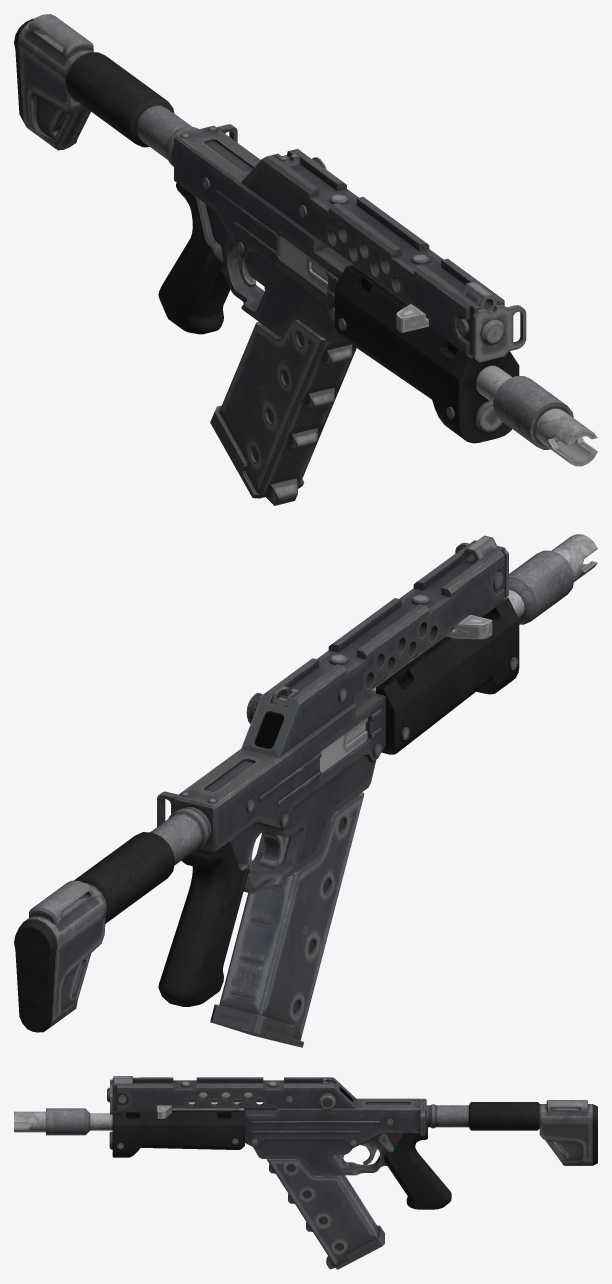
Rendered from ASrifle.fbx.
3 views of the same model, one above another, from view 1: azimuth 30°, elevation 25°; view 2: azimuth 150°, elevation 25°; view 3: azimuth 270°, elevation 25° (orthographic). The views are drawn at different scales.
Visible parts, largest first — view 1: base, mag, bolt; view 2: base, mag, bolt, magrelease, visor; view 3: base, mag, bolt.
Part boxes in pixels (bbox=[...]): base: bbox=[14, 14, 597, 466]; mag: bbox=[210, 319, 356, 505]; bolt: bbox=[280, 236, 428, 332]; base: bbox=[14, 534, 597, 1032]; mag: bbox=[210, 792, 364, 1047]; bolt: bbox=[320, 615, 492, 772]; magrelease: bbox=[259, 831, 289, 869]; visor: bbox=[255, 712, 283, 748]; base: bbox=[14, 1076, 597, 1209]; mag: bbox=[266, 1159, 384, 1269]; bolt: bbox=[157, 1102, 243, 1118].
Size of the model in its own units: 9.59 by 35.85 by 100.
